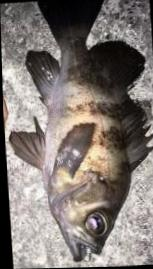fish: (6, 0, 153, 263)
